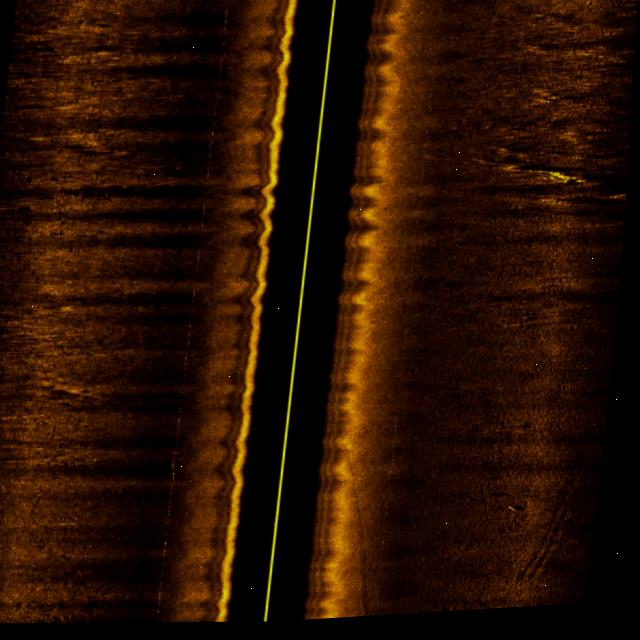mine: (511, 508, 534, 521)
